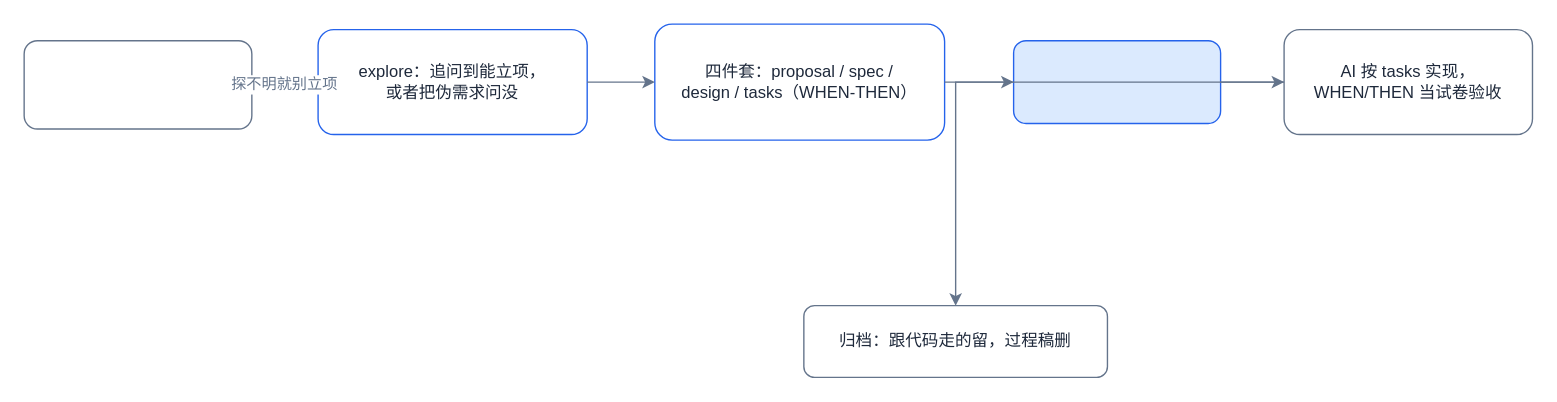
This 1557x402 diagram has some shape labels left out. Each missing label, with the box of its shape:
一句聊天话术 「给接口加个缓存」: (23, 39, 252, 129)
计划确认 （人投唯一的一票）: (1012, 39, 1221, 124)
